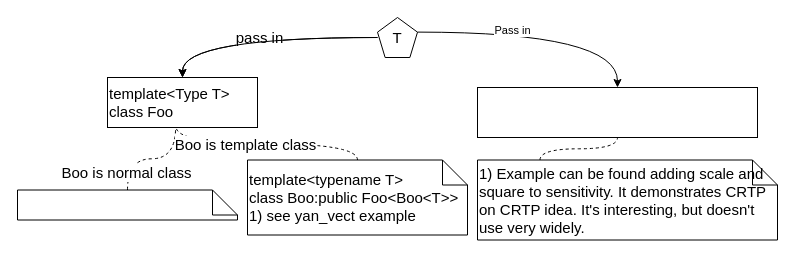
Some shapes in this 795 by 258 pixel diagram are drawn without their labels. The centre of each missing label's shape, as x and y in pixels:
class Boo:public Foo<Boo>: point 127,204
template<template<typename> class cls> class Foo: point 617,112
